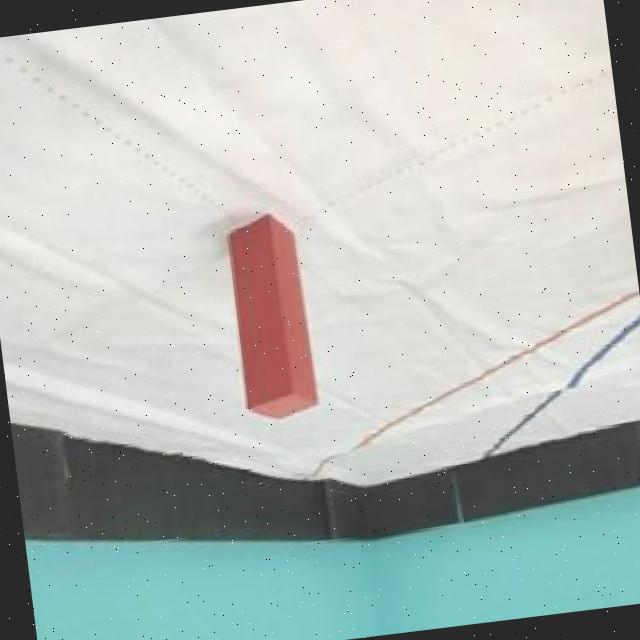redbox: (222, 214, 317, 425)
